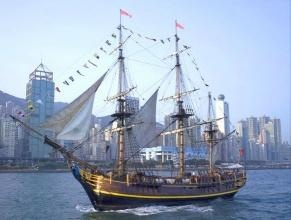fanchuan: (7, 6, 254, 207)
